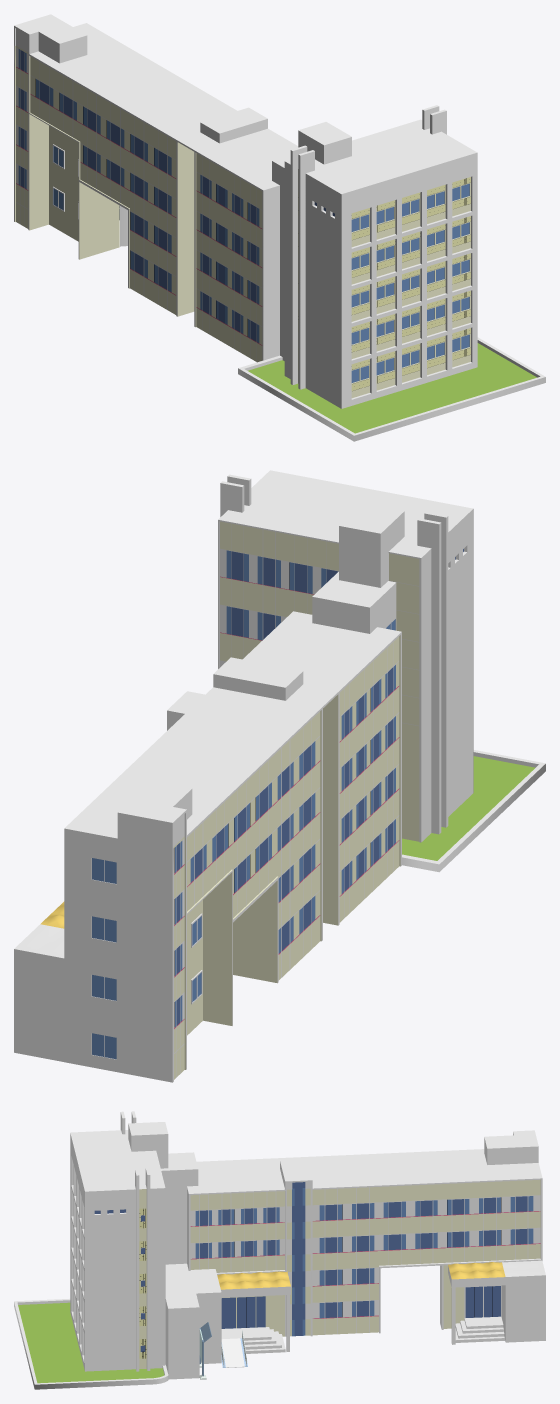
The picture shows the model from 3 angles, top to bottom: view 1: azimuth 30°, elevation 25°; view 2: azimuth 150°, elevation 25°; view 3: azimuth 270°, elevation 25°; orthographic projection. The views are drawn at different scales.
Visible parts, largest first — view 1: eh_33, eh_35, eh_15, eh_38, eh_06, eh_21, eh_29, eh_108, eh_34, eh_13, eh_32, eh_03 (+5 smaller); view 2: eh_33, eh_34, eh_27, eh_15, eh_35, eh_29, eh_22, eh_21, eh_26, eh_32, eh_30, eh_05 (+5 smaller); view 3: eh_15, eh_14, eh_21, eh_31, eh_22, eh_34, eh_05, eh_38, eh_10, eh_32, eh_28, eh_26 (+8 smaller).
Boxes of the visible parts, x1=… form: eh_33: x1=29, y1=56, x2=176, y2=314; eh_35: x1=14, y1=45, x2=263, y2=362; eh_15: x1=30, y1=23, x2=298, y2=360; eh_38: x1=341, y1=152, x2=477, y2=408; eh_06: x1=351, y1=182, x2=470, y2=398; eh_21: x1=238, y1=337, x2=545, y2=441; eh_29: x1=284, y1=161, x2=341, y2=408; eh_108: x1=351, y1=177, x2=470, y2=390; eh_34: x1=285, y1=119, x2=476, y2=194; eh_13: x1=49, y1=125, x2=78, y2=241; eh_32: x1=14, y1=14, x2=87, y2=63; eh_03: x1=16, y1=46, x2=28, y2=228; eh_33: x1=187, y1=711, x2=320, y2=1025; eh_34: x1=218, y1=470, x2=472, y2=842; eh_27: x1=64, y1=828, x2=172, y2=1082; eh_15: x1=64, y1=611, x2=401, y2=838; eh_35: x1=172, y1=632, x2=401, y2=1082; eh_29: x1=421, y1=509, x2=473, y2=841; eh_22: x1=14, y1=901, x2=64, y2=1061; eh_21: x1=401, y1=750, x2=545, y2=872; eh_26: x1=339, y1=503, x2=404, y2=587; eh_32: x1=117, y1=781, x2=192, y2=848; eh_30: x1=417, y1=518, x2=441, y2=834; eh_05: x1=312, y1=571, x2=396, y2=633; eh_15: x1=187, y1=1149, x2=542, y2=1336; eh_14: x1=85, y1=1188, x2=165, y2=1371; eh_21: x1=14, y1=1298, x2=168, y2=1389; eh_31: x1=165, y1=1263, x2=221, y2=1379; eh_22: x1=448, y1=1260, x2=545, y2=1342; eh_34: x1=70, y1=1130, x2=165, y2=1191; eh_05: x1=161, y1=1152, x2=198, y2=1264; eh_38: x1=70, y1=1133, x2=84, y2=1370; eh_10: x1=217, y1=1271, x2=290, y2=1297; eh_32: x1=484, y1=1130, x2=538, y2=1164; eh_28: x1=221, y1=1296, x2=266, y2=1328; eh_26: x1=128, y1=1122, x2=168, y2=1168.
Bounding box in the file's own units: 3.4 × 3.3 × 8.02.
